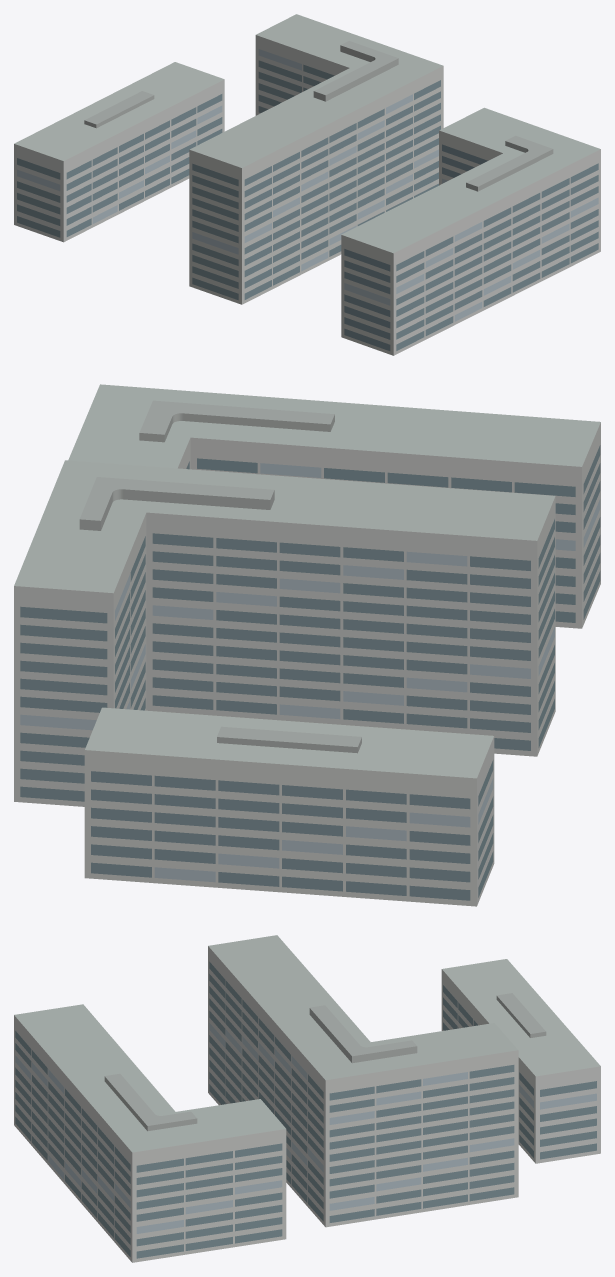
Rendered from apt-a10022474.glb.
3 views of the same model, one above another, from view 1: azimuth 30°, elevation 25°; view 2: azimuth 150°, elevation 25°; view 3: azimuth 270°, elevation 25° (orthographic). The views are drawn at different scales.
Visible parts, largest first — view 1: apt-a10022474; view 2: apt-a10022474; view 3: apt-a10022474.
Part boxes in pixels (x1,y1,x2,y2): apt-a10022474: [14, 14, 600, 355]; apt-a10022474: [14, 384, 600, 906]; apt-a10022474: [14, 935, 600, 1262].
Size of the model in its own units: 96.58 by 32 by 111.
